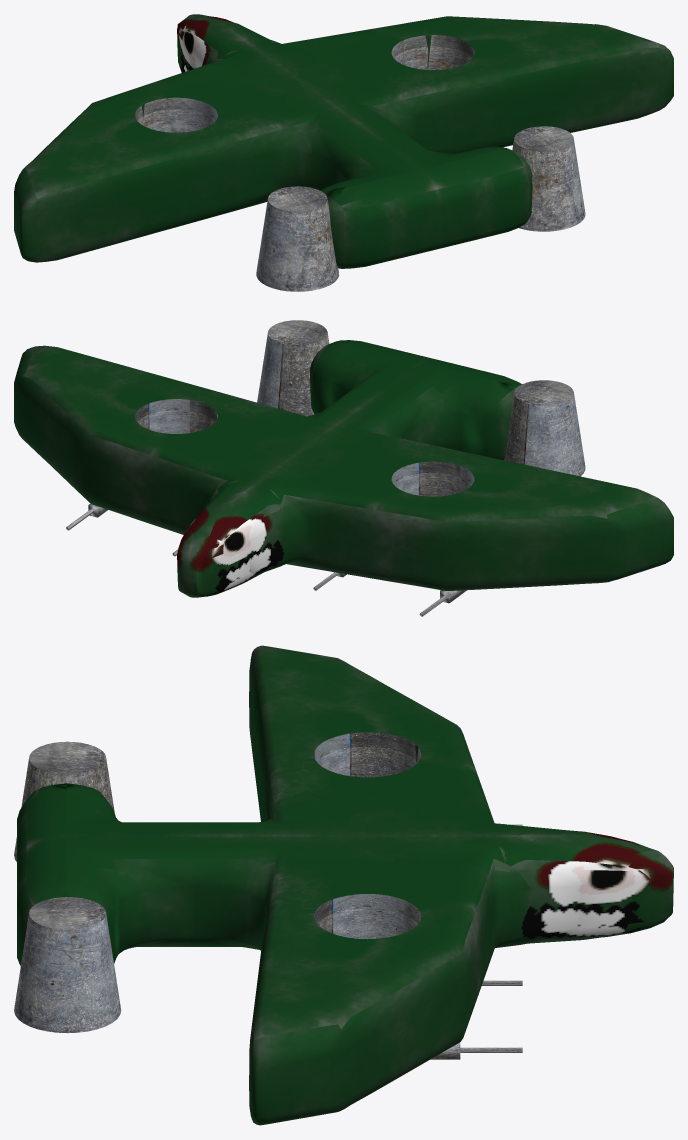
File: bird.glb
3 renders of one model, top to bottom at view 1: azimuth 30°, elevation 25°; view 2: azimuth 150°, elevation 25°; view 3: azimuth 270°, elevation 25°, orthographic. The views are drawn at different scales.
Parts seen in each view (by area): view 1: Plane, Thrusters; view 2: Plane, Thrusters, Guns; view 3: Plane, Thrusters, Guns.
Boxes of the visible parts, box(x1,y1,x2,y2) form: Plane: box(14, 14, 673, 268); Thrusters: box(256, 126, 585, 291); Plane: box(14, 340, 673, 597); Thrusters: box(257, 320, 585, 476); Guns: box(66, 503, 466, 616); Plane: box(17, 645, 673, 1125); Thrusters: box(14, 741, 121, 1033); Guns: box(430, 824, 522, 1059).
Size of the model in its own units: 18.14 by 2.27 by 12.3.
Materials: 2 (2 with a texture image).
